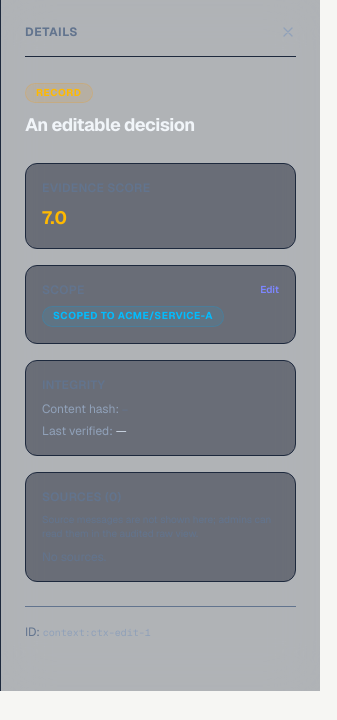
Test case: NodeInspectorPanel component tests › should show the Edit button for a context node and enter edit mode on click
Click the button with test id "scope-edit-toggle" at (270,290), box [260,283,279,297]
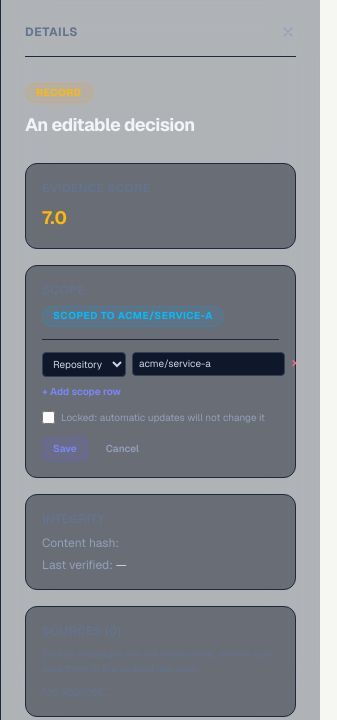
Check: the element with test id "scope-edit-form" is shown, box [42,339,279,461]
Check: the field with test id "scope-row-value-0" holds "acme/service-a", box [132,352,285,376]
